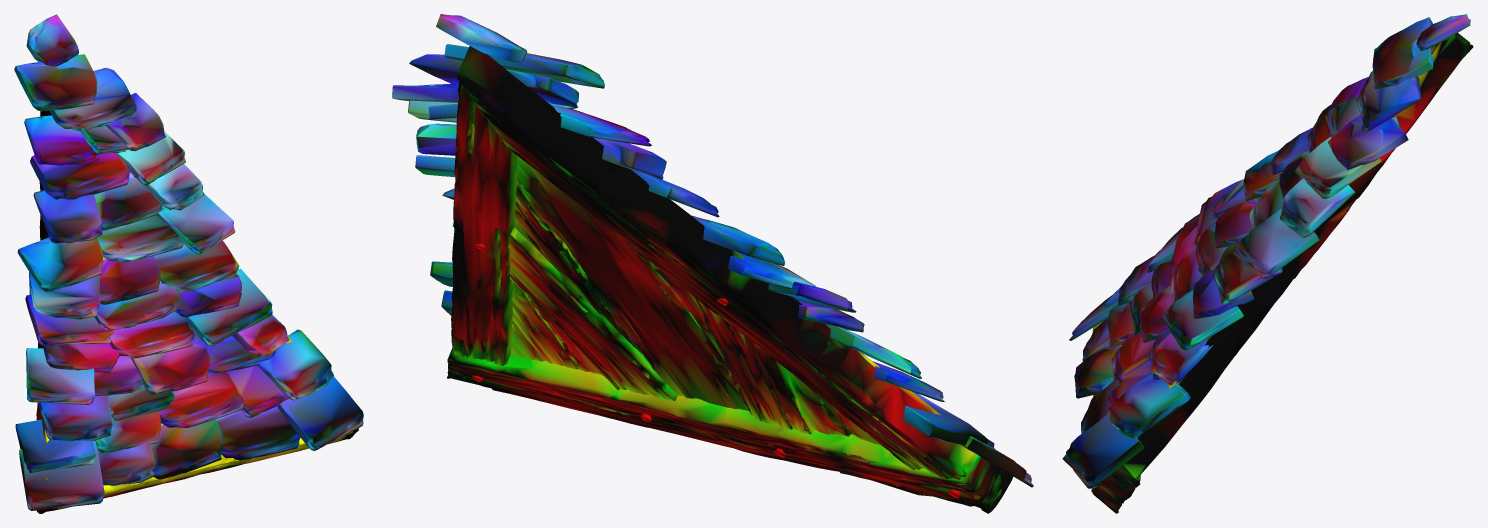
The model's file is SM_Stone_Roof_Tri.fbx.
3 views of the same model, side by side, from view 1: azimuth 30°, elevation 25°; view 2: azimuth 150°, elevation 25°; view 3: azimuth 270°, elevation 25° (orthographic). The views are drawn at different scales.
Visible parts, largest first — view 1: SM_Stone_Roof_Tri_LOD0; view 2: SM_Stone_Roof_Tri_LOD0; view 3: SM_Stone_Roof_Tri_LOD0.
Part boxes in pixels (<box>): SM_Stone_Roof_Tri_LOD0: <box>14,14,363,513</box>; SM_Stone_Roof_Tri_LOD0: <box>392,14,1033,513</box>; SM_Stone_Roof_Tri_LOD0: <box>1062,14,1473,513</box>.
Size of the model in its own units: 325 by 297 by 329.
